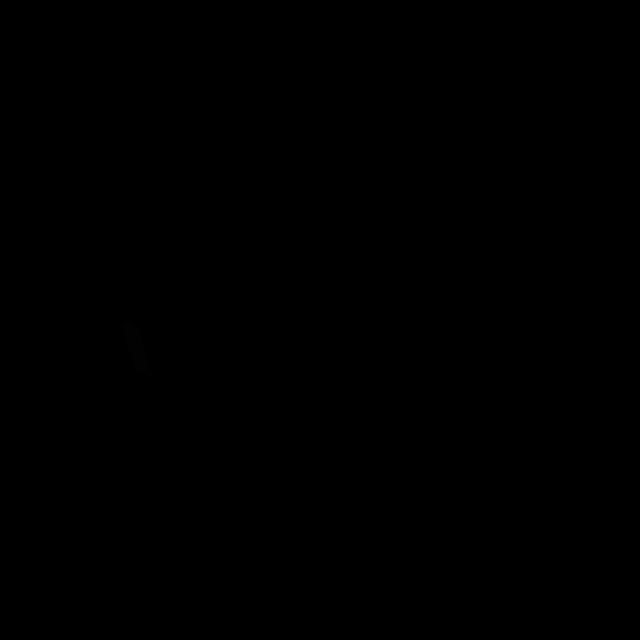cardboard: (121, 321, 153, 378)
